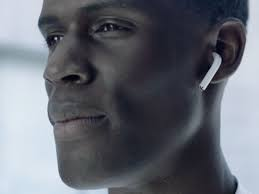earphone: (199, 17, 248, 91)
